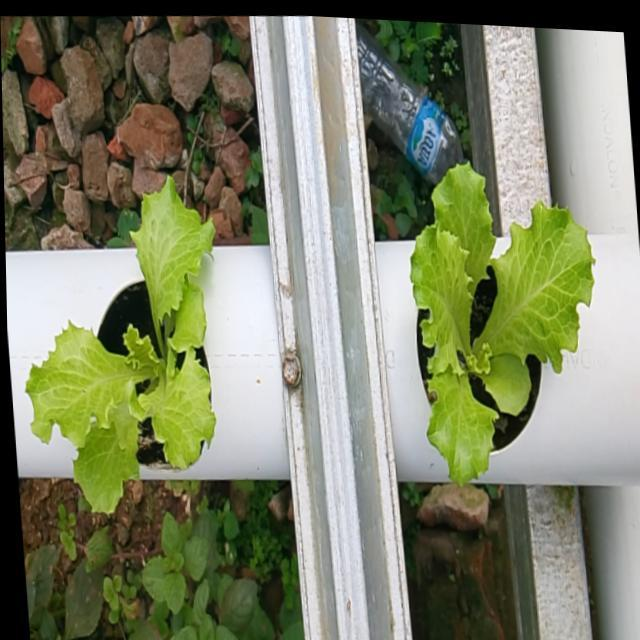Baby: (21, 179, 212, 518), (407, 165, 593, 490)
